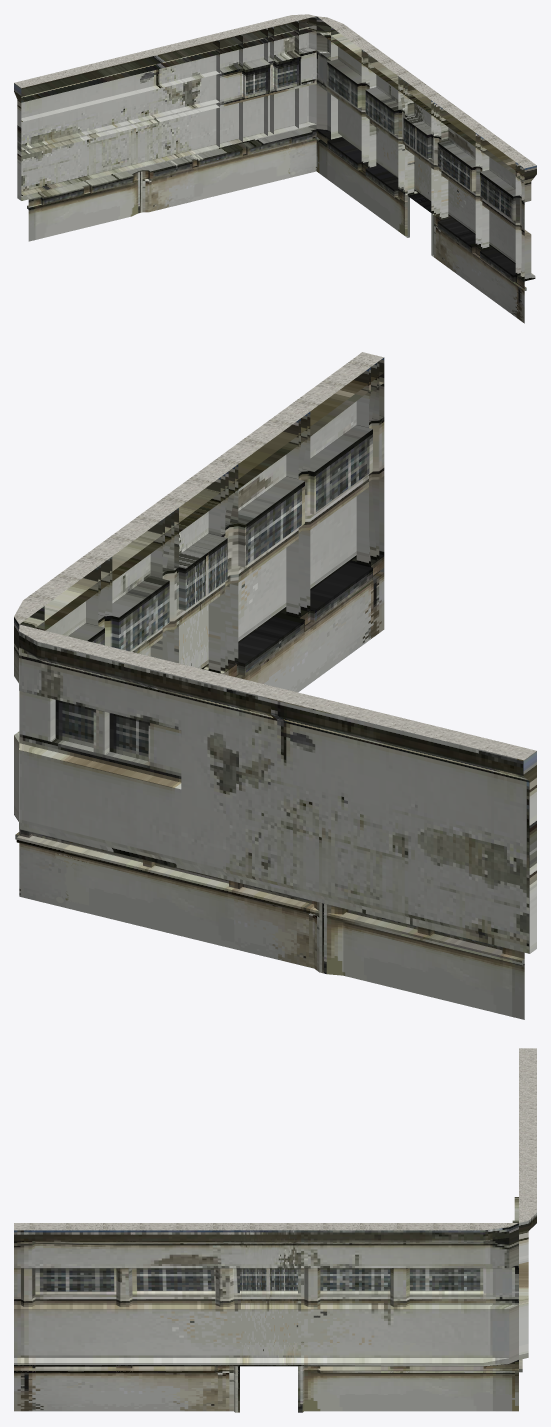
The model's file is EDIFICIO DEPARTAMENTAL.fbx.
The picture shows the model from 3 angles, top to bottom: view 1: azimuth 30°, elevation 25°; view 2: azimuth 150°, elevation 25°; view 3: azimuth 270°, elevation 25°; orthographic projection. The views are drawn at different scales.
Visible parts, largest first — view 1: PARED FRONT B; view 2: PARED FRONT B; view 3: PARED FRONT B.
Part boxes in pixels (left/top/right/bottom): PARED FRONT B: left=14, top=14, right=536, bottom=323; PARED FRONT B: left=14, top=352, right=536, bottom=1019; PARED FRONT B: left=14, top=1048, right=536, bottom=1412.
Size of the model in its own units: 2995 by 1444 by 3635.
3 materials, 3 textured.
